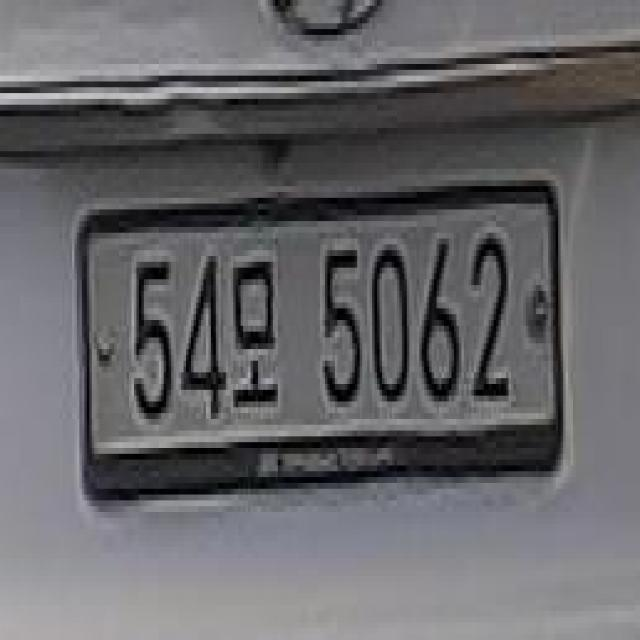0: (369, 234, 412, 406)
2: (468, 225, 516, 405)
4: (180, 248, 230, 425)
5: (316, 234, 365, 412), (126, 251, 176, 424)
6: (415, 232, 465, 408)
license_plate: (68, 182, 567, 496)
mo: (232, 248, 282, 422)
